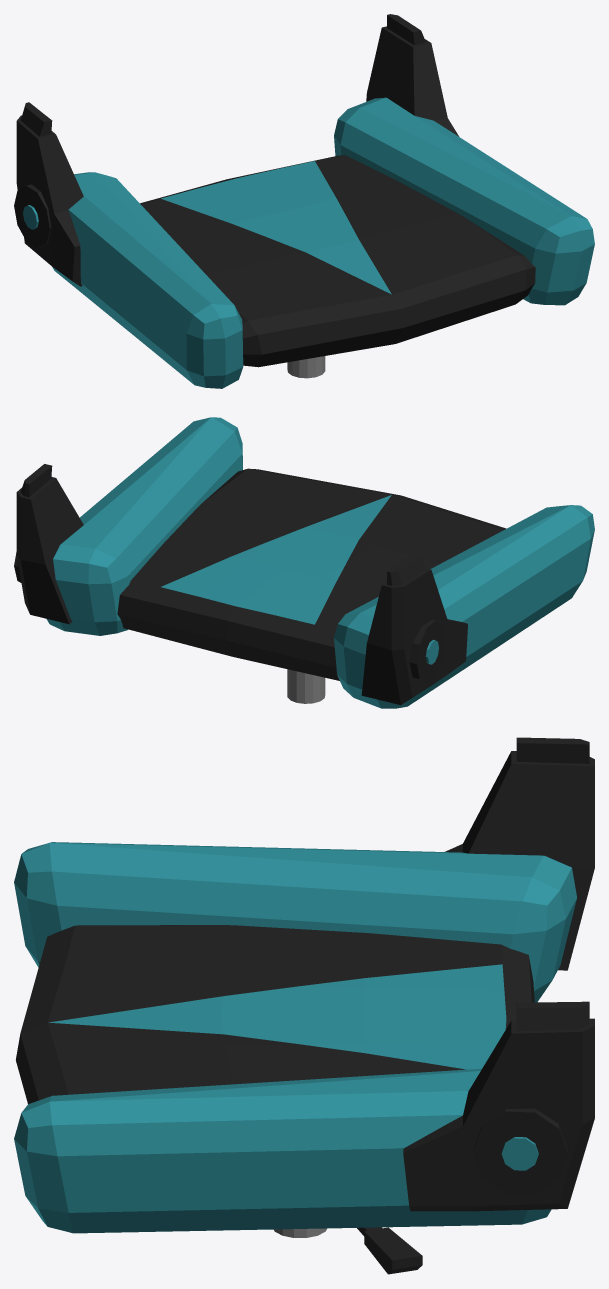
Rendered from Gaming_Chair_Seat_Base_2.obj.
The picture shows the model from 3 angles, top to bottom: view 1: azimuth 30°, elevation 25°; view 2: azimuth 150°, elevation 25°; view 3: azimuth 270°, elevation 25°; orthographic projection. The views are drawn at different scales.
Parts seen in each view (by area): view 1: Gaming_Chair_Seat_Base_2; view 2: Gaming_Chair_Seat_Base_2; view 3: Gaming_Chair_Seat_Base_2.
Part boxes in pixels (left/top/right/bottom): Gaming_Chair_Seat_Base_2: left=14, top=14, right=594, bottom=388; Gaming_Chair_Seat_Base_2: left=14, top=417, right=594, bottom=708; Gaming_Chair_Seat_Base_2: left=14, top=737, right=594, bottom=1274.
Size of the model in its own units: 0.6367 by 0.3605 by 0.537.
